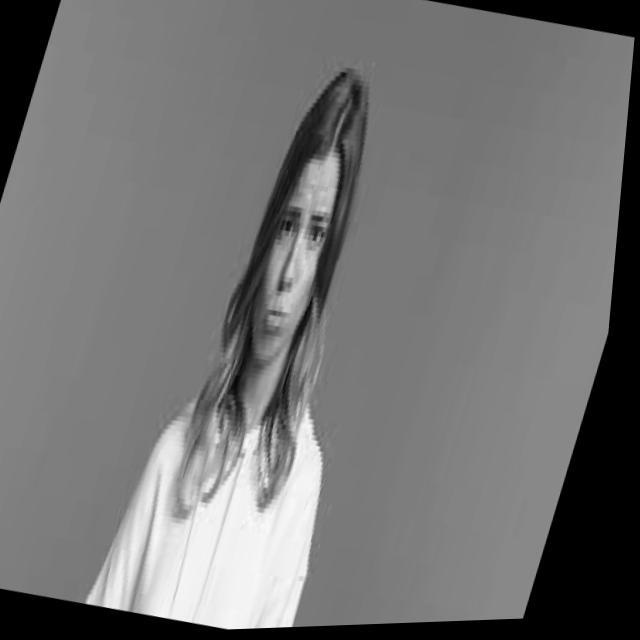surprised: (223, 90, 376, 384)
